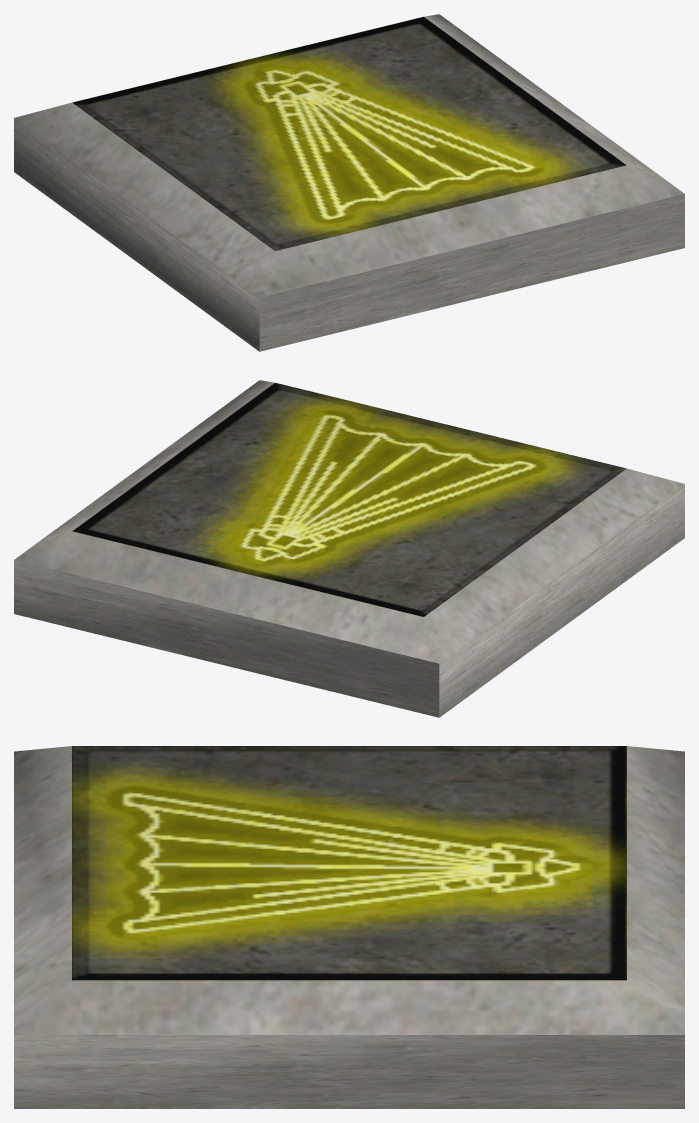
File: FLOOR_RUIN_BILLOWS_FLOOR_RUIN_BILLOWS02.obj
3 renders of one model, top to bottom at view 1: azimuth 30°, elevation 25°; view 2: azimuth 150°, elevation 25°; view 3: azimuth 270°, elevation 25°, orthographic. The views are drawn at different scales.
Visible parts, largest first — view 1: _ruin_billows02; view 2: _ruin_billows02; view 3: _ruin_billows02.
Part boxes in pixels (bbox=[...]): _ruin_billows02: bbox=[14, 14, 684, 351]; _ruin_billows02: bbox=[14, 380, 684, 717]; _ruin_billows02: bbox=[14, 746, 684, 1108].
Bounding box in the file's own units: 150 × 25.65 × 150.
